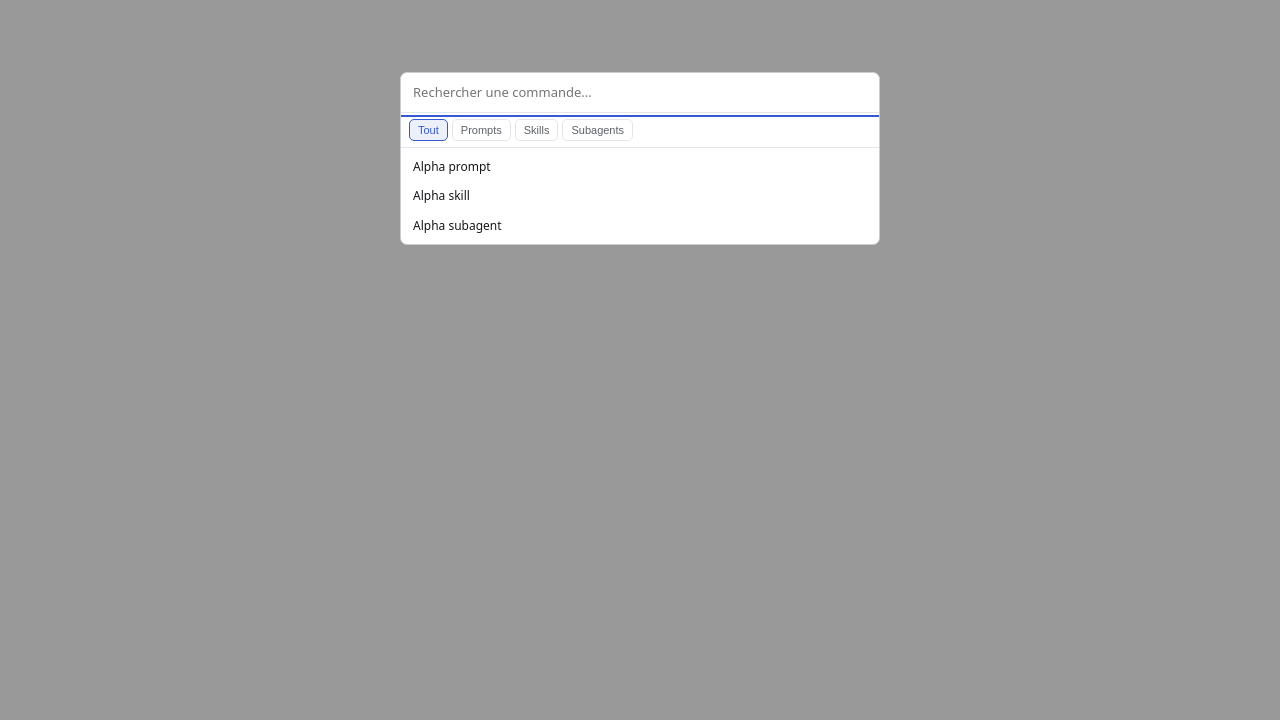
Test case: les onglets de type restreignent la liste, combines au filtre texte
Click the button "Skills" at {"x": 537, "y": 130}, box top-left (515, 119), bottom-right (558, 141)
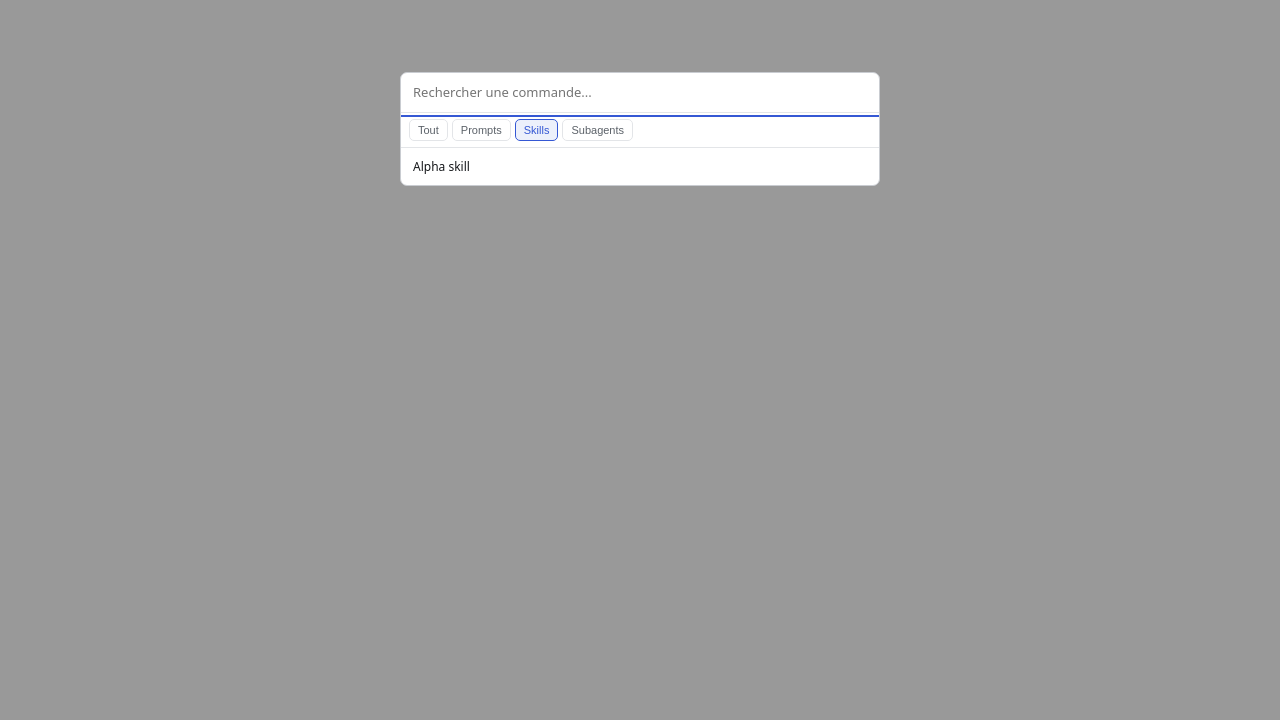
Expected: the text "Alpha skill" is shown, top-left (413, 158), bottom-right (470, 175)
Expected: the option "Alpha prompt" is gone
Expected: the option "Alpha subagent" is gone
Type "zzz-introuvable" into the field labelled "Rechercher une commande..." at {"x": 640, "y": 93}, box top-left (401, 73), bottom-right (879, 113)
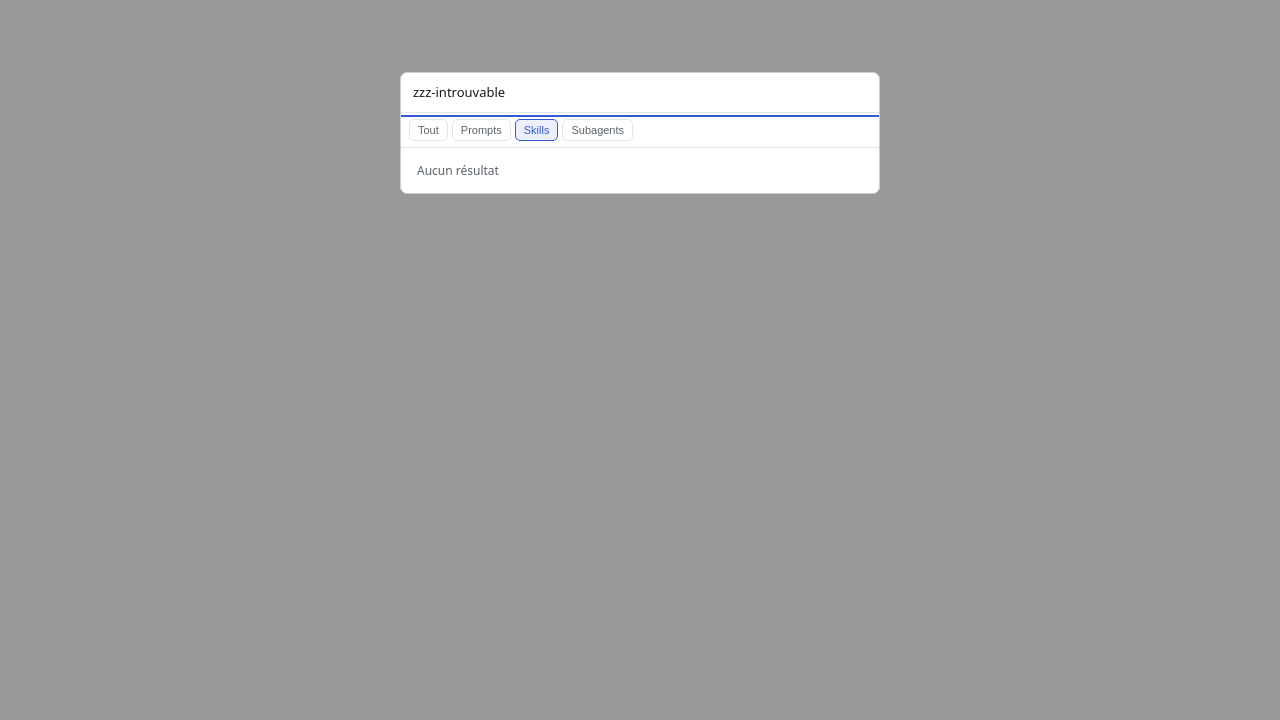
Expected: the option "Alpha skill" is gone
